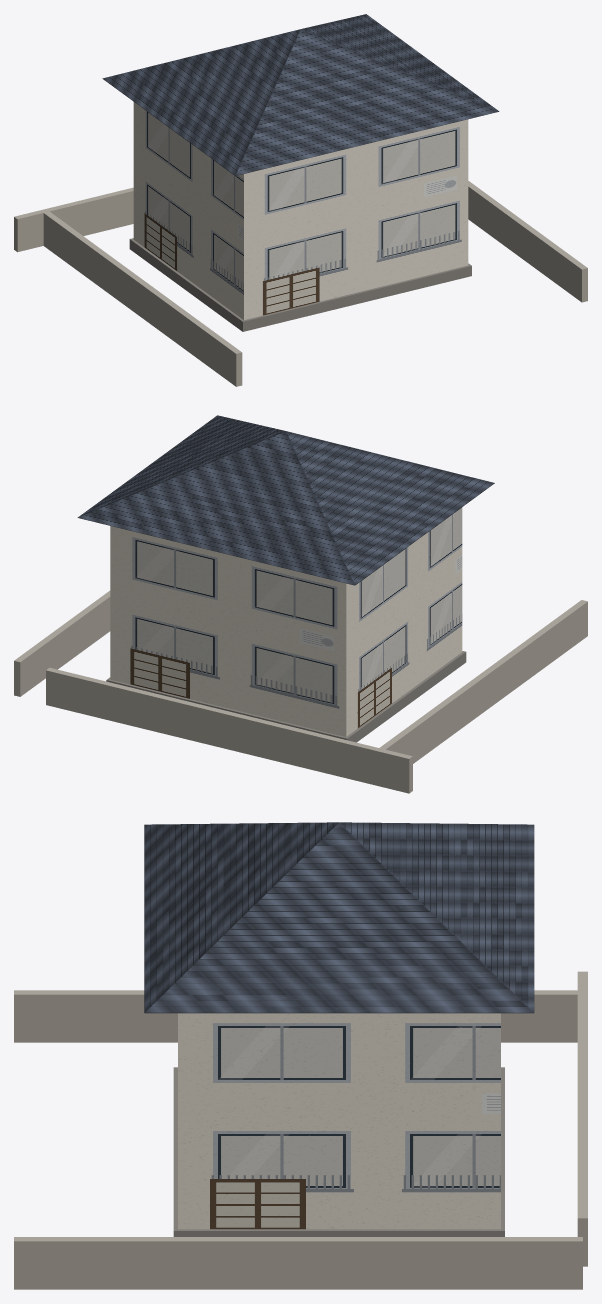
File: house_d.glb
3 renders of one model, top to bottom at view 1: azimuth 30°, elevation 25°; view 2: azimuth 150°, elevation 25°; view 3: azimuth 270°, elevation 25°, orthographic. The views are drawn at different scales.
Parts seen in each view (by area): view 1: jhouse; view 2: jhouse; view 3: jhouse.
Part boxes in pixels (box(x1,y1,x2,y2)): jhouse: box(14, 14, 587, 386); jhouse: box(14, 415, 587, 793); jhouse: box(14, 822, 587, 1289).
Size of the model in its own units: 15.57 by 9.2 by 14.01.
Materials: 4 (2 with a texture image).
